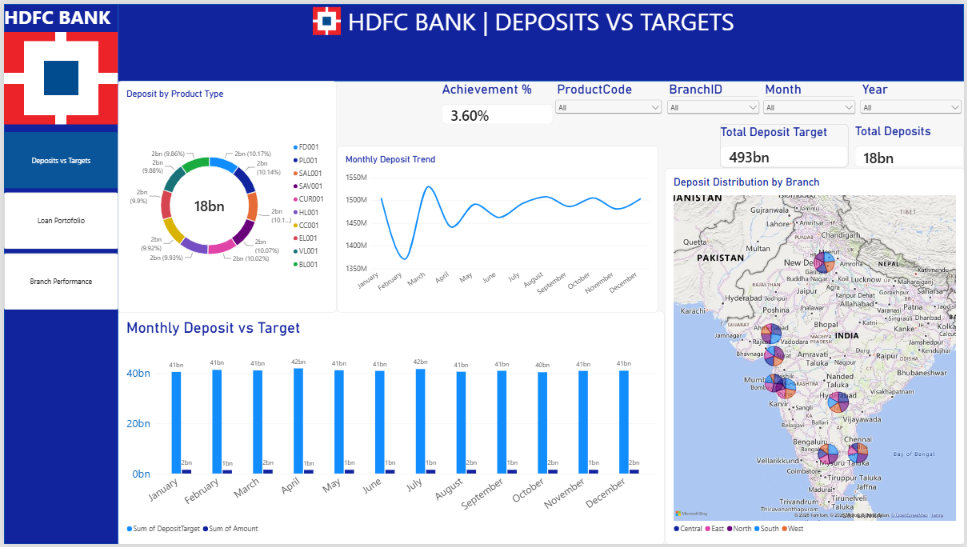

What the dashboard file says about the page in this screenshot:
{"tool":"powerbi","page":{"name":"Deposits vs Targets","canvas":[1920,1080],"ordinal":0},"visuals":[{"type":"clusteredColumnChart","title":"Monthly Deposit vs Target","fields":{"Category":["DimMonth.MonthName"],"Y":["Sum(BranchDepositTargets.DepositTarget)","Sum(FactTransactions.Amount)"]},"box":[228,613.5,1093,466.9],"z":0},{"type":"slicer","fields":{"Values":["DimBranch.BranchID"]},"box":[1321.1,153.8,193.6,76],"z":1000},{"type":"slicer","fields":{"Values":["DimDate.MonthName"]},"box":[1514.9,154.4,193.5,86.4],"z":2000},{"type":"textbox","box":[247,0,798.6,78.2],"z":3000},{"type":"shape","box":[0,0,228.5,1080.6],"z":4000},{"type":"textbox","box":[0,0,214.1,67.9],"z":5000},{"type":"pageNavigator","box":[0,257,228.5,356.1],"z":6000},{"type":"shape","box":[228.5,0,1691.9,154.4],"z":7000},{"type":"textbox","box":[228.5,0,1691.9,67.9],"z":8000},{"type":"slicer","fields":{"Values":["DimDate.Year"]},"box":[1708.4,154.4,212,86.4],"z":9000},{"type":"slicer","fields":{"Values":["DimProduct.ProductCode"]},"box":[1098.5,153.8,222.6,76],"z":10000},{"type":"cardVisual","title":"Total Deposits","fields":{"Data":["Sum(FactTransactions.Amount)"]},"box":[1702.2,240.8,218.2,86.4],"z":11000},{"type":"cardVisual","title":"Total Deposit Target","fields":{"Data":["Sum(BranchDepositTargets.DepositTarget)"]},"box":[1431.4,240.7,257,86.9],"z":12000},{"type":"lineChart","title":"Monthly Deposit Trend","fields":{"Category":["DimMonth.MonthName"],"Y":["Sum(FactTransactions.Amount)"]},"box":[666,284.1,642.4,333],"z":13000},{"type":"map","title":"Deposit Distribution by Branch","fields":{"Category":["DimBranch.City"],"Series":["DimBranch.Region"],"Size":["Sum(FactTransactions.Amount)"]},"box":[1321.1,327.5,599,752.8],"z":13001},{"type":"donutChart","title":"Deposit by Product Type","fields":{"Category":["DimProduct.ProductCode"],"Y":["Sum(FactTransactions.Amount)"]},"box":[228,153.8,437.9,463.3],"z":13002},{"type":"cardVisual","title":"Achievement %","fields":{"Data":["BranchDepositTargets.Achievement %"]},"box":[875.9,153.8,222.6,86.9],"z":13003},{"type":"image","box":[0,56.1,228,184.6],"z":13004},{"type":"image","box":[508.5,5.4,275.1,56.1],"z":13005}]}

Visuals, with their boxes in screenshot pixels (x1, y1, x2, y2), scaled from the page's 1920x1080 canvas onto the 967x547 screenshot:
"Monthly Deposit vs Target" clusteredColumnChart: (left=115, top=311, right=665, bottom=546)
slicer - DimBranch.BranchID: (left=665, top=78, right=763, bottom=116)
slicer - DimDate.MonthName: (left=763, top=78, right=860, bottom=122)
textbox: (left=124, top=0, right=527, bottom=40)
shape: (left=0, top=0, right=115, bottom=546)
textbox: (left=0, top=0, right=108, bottom=34)
pageNavigator: (left=0, top=130, right=115, bottom=311)
shape: (left=115, top=0, right=966, bottom=78)
textbox: (left=115, top=0, right=966, bottom=34)
slicer - DimDate.Year: (left=860, top=78, right=966, bottom=122)
slicer - DimProduct.ProductCode: (left=553, top=78, right=665, bottom=116)
"Total Deposits" cardVisual: (left=857, top=122, right=966, bottom=166)
"Total Deposit Target" cardVisual: (left=721, top=122, right=850, bottom=166)
"Monthly Deposit Trend" lineChart: (left=335, top=144, right=659, bottom=313)
"Deposit Distribution by Branch" map: (left=665, top=166, right=966, bottom=546)
"Deposit by Product Type" donutChart: (left=115, top=78, right=335, bottom=313)
"Achievement %" cardVisual: (left=441, top=78, right=553, bottom=122)
image: (left=0, top=28, right=115, bottom=122)
image: (left=256, top=3, right=395, bottom=31)
